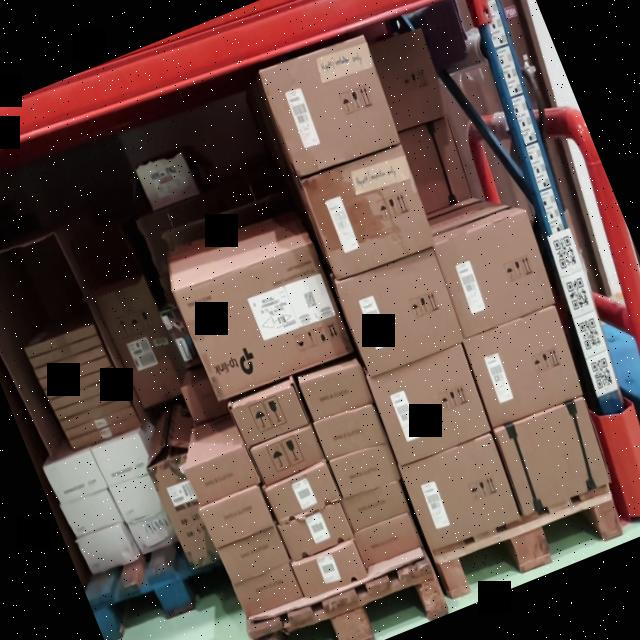box: (176, 238, 354, 402), (261, 41, 399, 173), (303, 147, 430, 277), (337, 252, 462, 372), (434, 213, 556, 334), (370, 343, 489, 462), (401, 439, 521, 554), (463, 311, 578, 422), (497, 397, 606, 512), (95, 278, 186, 411), (276, 500, 352, 563), (250, 422, 324, 485), (233, 384, 309, 444), (199, 486, 272, 548), (298, 358, 371, 420), (312, 398, 386, 459), (182, 442, 255, 503), (264, 463, 338, 523), (291, 541, 366, 598), (328, 442, 399, 502), (354, 514, 422, 568), (42, 448, 104, 504), (219, 532, 287, 583), (344, 481, 408, 534), (77, 523, 138, 577), (235, 567, 299, 616), (62, 490, 122, 539)
